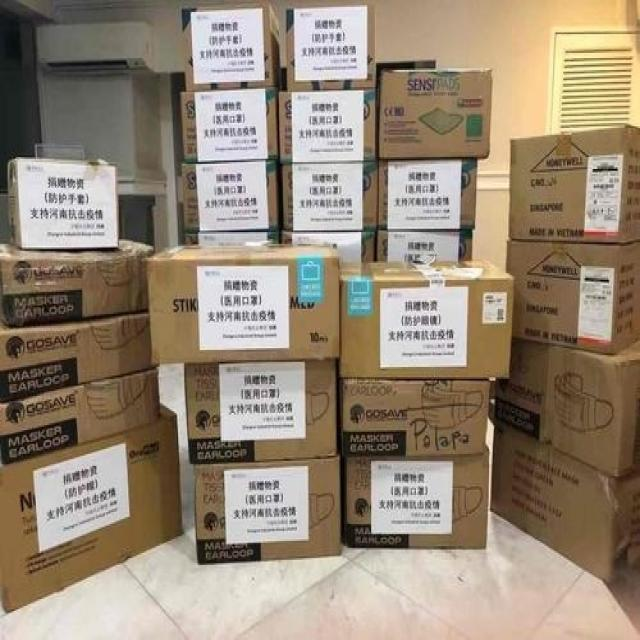box: (0, 401, 184, 612), (491, 421, 639, 585), (145, 241, 341, 364), (339, 259, 514, 380), (496, 339, 639, 479), (185, 359, 338, 467), (0, 370, 162, 469), (503, 239, 639, 355), (193, 459, 340, 566), (509, 126, 639, 243), (0, 311, 161, 405), (0, 239, 155, 328), (343, 454, 488, 549), (339, 380, 489, 457), (8, 160, 120, 249), (380, 70, 492, 158), (182, 6, 283, 91), (277, 89, 376, 164), (182, 85, 278, 161), (378, 158, 477, 231), (287, 7, 375, 88), (183, 161, 281, 232), (280, 163, 377, 232), (376, 230, 473, 261), (281, 231, 376, 261), (183, 229, 281, 243)
